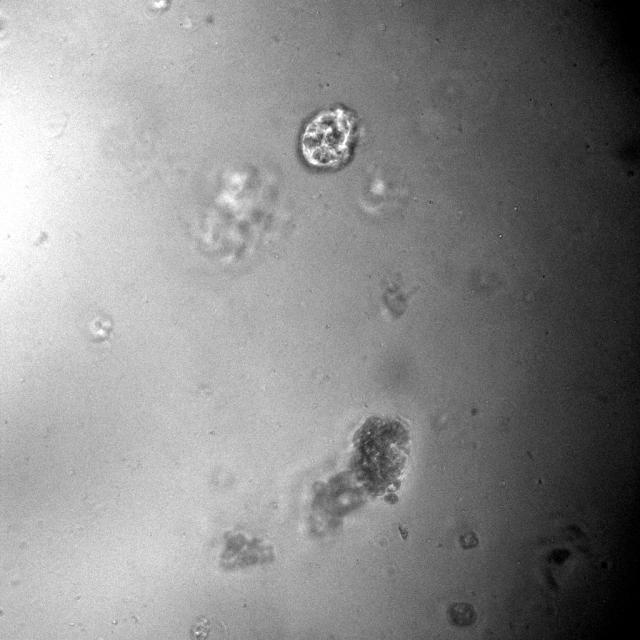organoid: (305, 416, 411, 537), (188, 165, 289, 269), (297, 103, 360, 172), (220, 531, 273, 569), (543, 548, 571, 589), (382, 281, 412, 319), (448, 602, 476, 627), (88, 314, 113, 342), (191, 616, 211, 639), (459, 530, 479, 549), (149, 0, 171, 14)
